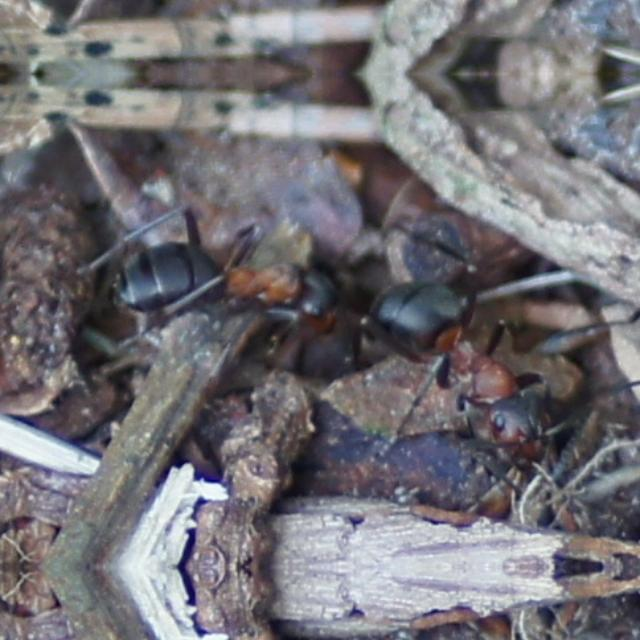Formica: (357, 266, 587, 472), (112, 194, 354, 358)
